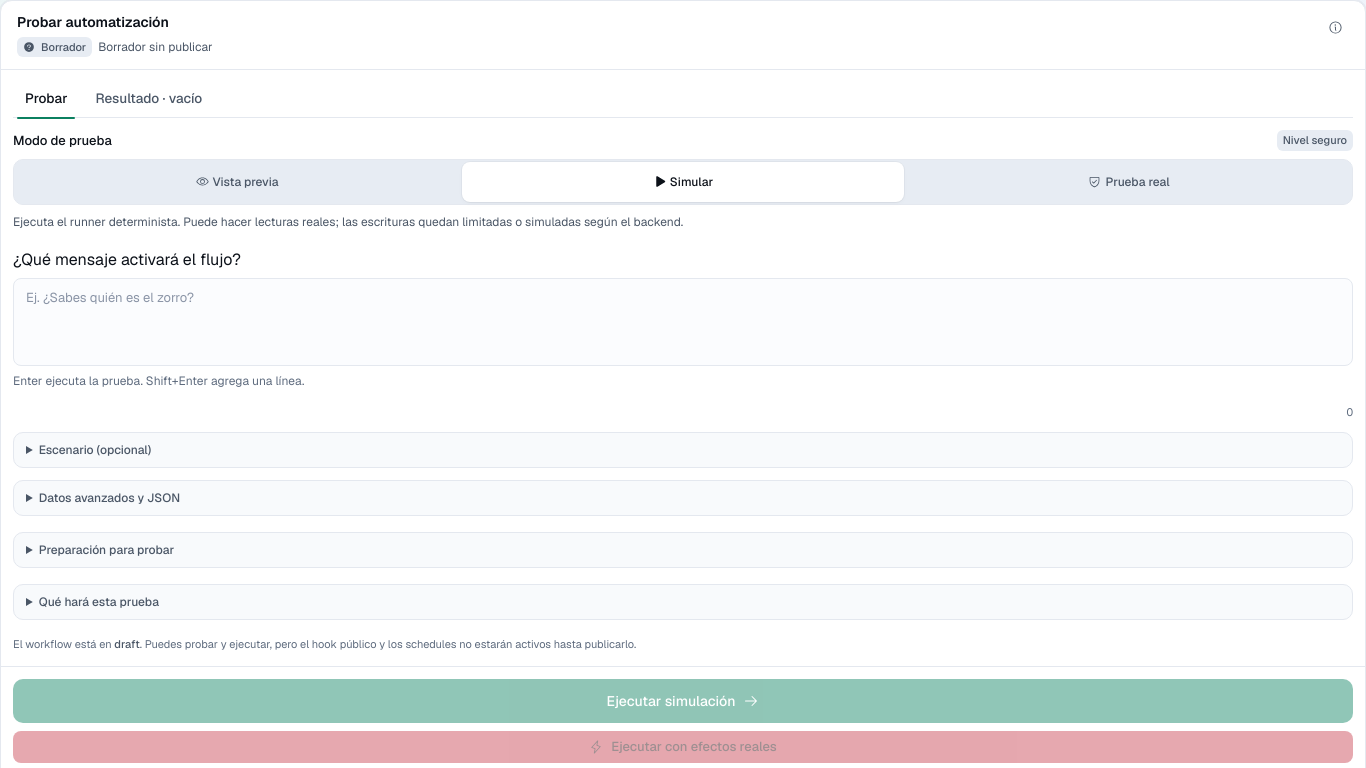
WorkflowTestPanel (dock de prueba) › preview no ejecuta el workflow
Click the radio button with test id "wf-level-preview". click: (237, 182)
box: [16,162,458,202]
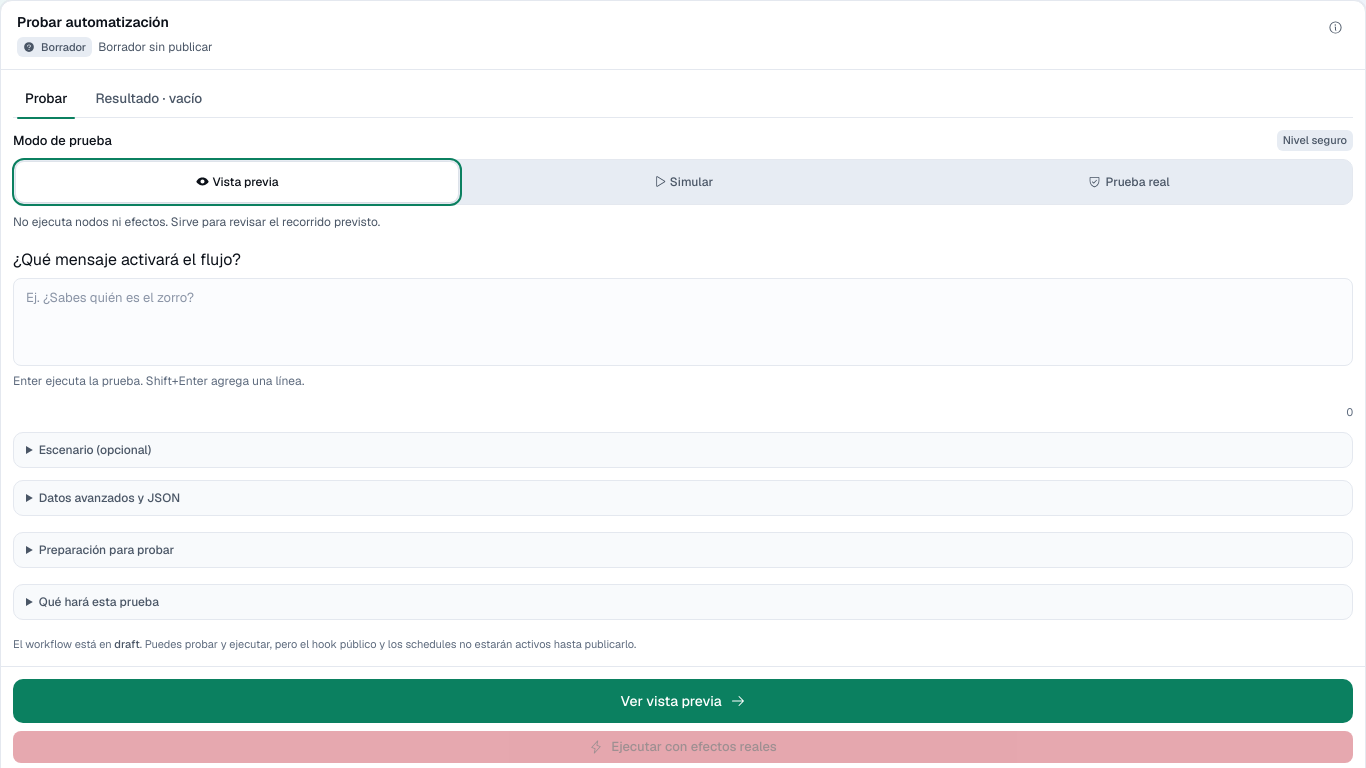
Click the button with test id "wf-test". click: (683, 701)
box: [13,679,1353,723]
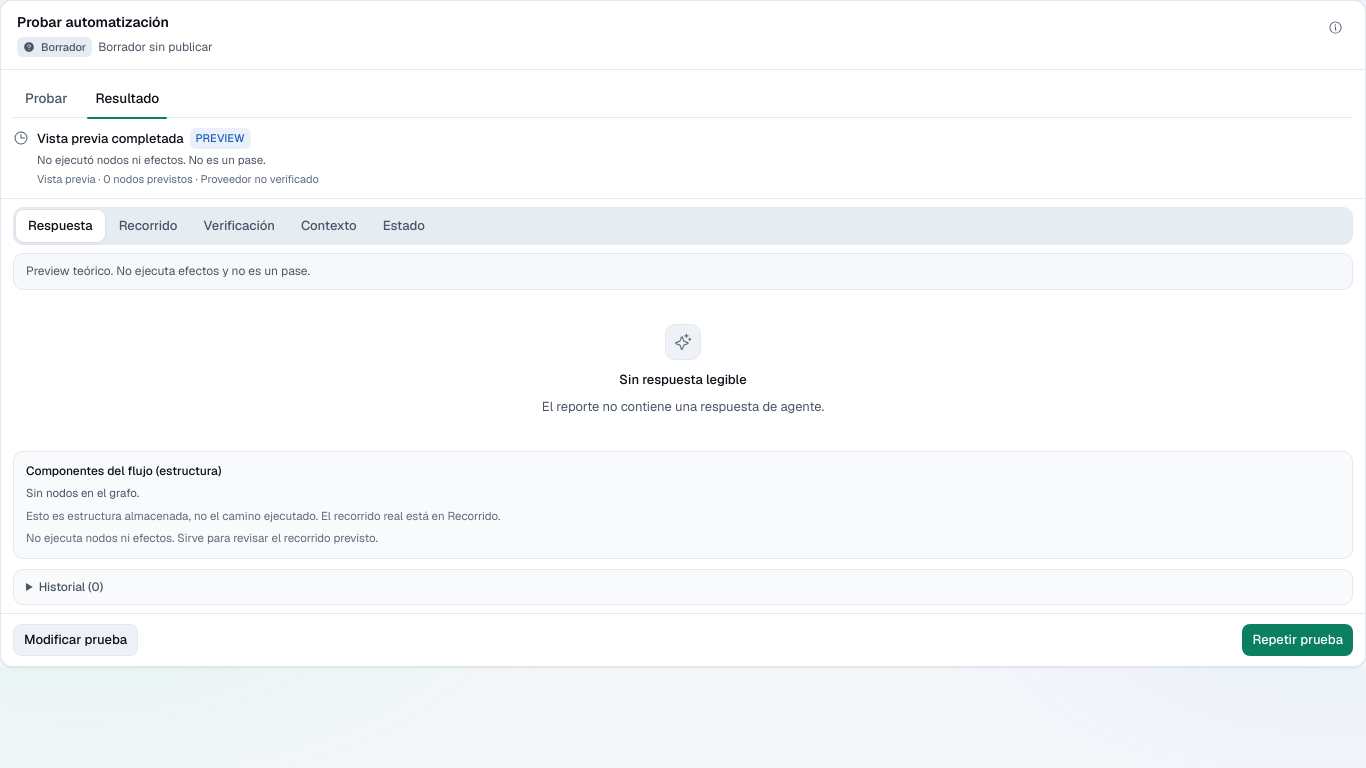
Result: the message with test id "wf-chat-system" shows "Preview teórico" at [26,263,310,279]
